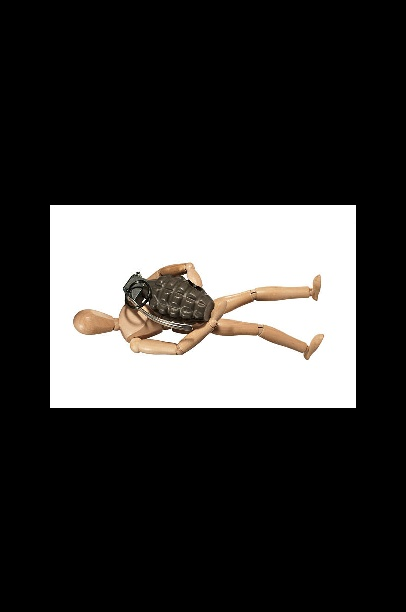e1: (120, 265, 213, 338)
